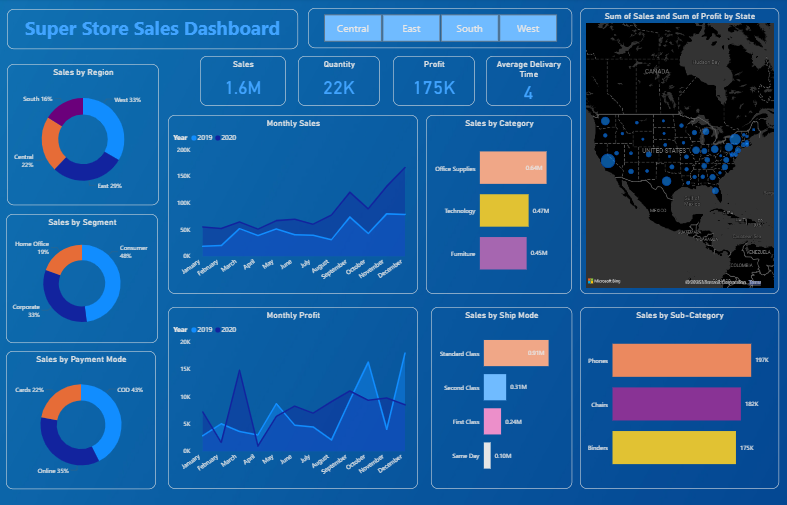

The dashboard page shown, as its layout file describes it:
{"tool":"powerbi","page":{"name":"Dashboard","canvas":[1550,1000],"ordinal":0},"visuals":[{"type":"clusteredBarChart","title":"Sales by Category","fields":{"Category":["SuperStore_Sales_Dataset.Category"],"Y":["Sum(SuperStore_Sales_Dataset.Sales)"]},"box":[840.6,230.3,287.4,352.4],"z":0},{"type":"clusteredBarChart","title":"Sales by Sub-Category","fields":{"Y":["Sum(SuperStore_Sales_Dataset.Sales)"],"Category":["SuperStore_Sales_Dataset.Sub-Category"]},"box":[1143.7,608.3,391.7,358.3],"z":1000},{"type":"clusteredBarChart","title":"Sales by Ship Mode","fields":{"Y":["Sum(SuperStore_Sales_Dataset.Sales)"],"Category":["SuperStore_Sales_Dataset.Ship Mode"]},"box":[850.4,608.3,277.6,358.3],"z":2000},{"type":"areaChart","title":"Monthly Sales","fields":{"Y":["Sum(SuperStore_Sales_Dataset.Sales)"],"Series":["SuperStore_Sales_Dataset.Order Date.Variation.Date Hierarchy.Year"],"Category":["SuperStore_Sales_Dataset.Order Date.Variation.Date Hierarchy.Month","SuperStore_Sales_Dataset.Order Date.Variation.Date Hierarchy.Day"]},"box":[332.7,230.3,492.1,352.4],"z":3000},{"type":"areaChart","title":"Monthly Profit","fields":{"Series":["SuperStore_Sales_Dataset.Order Date.Variation.Date Hierarchy.Year"],"Category":["SuperStore_Sales_Dataset.Order Date.Variation.Date Hierarchy.Month","SuperStore_Sales_Dataset.Order Date.Variation.Date Hierarchy.Day"],"Y":["Sum(SuperStore_Sales_Dataset.Profit)"]},"box":[332.7,608.3,492.1,358.3],"z":4000},{"type":"map","fields":{"Size":["Sum(SuperStore_Sales_Dataset.Sales)"],"Category":["SuperStore_Sales_Dataset.State"]},"box":[1143.7,19.7,391.7,563],"z":5000},{"type":"donutChart","title":"Sales by Segment","fields":{"Category":["SuperStore_Sales_Dataset.Segment"],"Y":["Sum(SuperStore_Sales_Dataset.Sales)"]},"box":[13.8,425.2,299.2,253.9],"z":6000},{"type":"donutChart","title":"Sales by Payment Mode","fields":{"Y":["Sum(SuperStore_Sales_Dataset.Sales)"],"Category":["SuperStore_Sales_Dataset.Payment Mode"]},"box":[13.8,694.9,295.3,271.7],"z":7000},{"type":"slicer","fields":{"Values":["SuperStore_Sales_Dataset.Region"]},"box":[608.3,19.7,519.7,78.7],"z":8000},{"type":"textbox","box":[15.7,21.7,572.8,78.7],"z":9000},{"type":"card","title":"Sales","fields":{"Values":["Sum(SuperStore_Sales_Dataset.Sales)"]},"box":[395.7,114.2,169.3,98.4],"z":10000},{"type":"card","title":"Quantity","fields":{"Values":["Sum(SuperStore_Sales_Dataset.Quantity)"]},"box":[588.6,114.2,161.4,98.4],"z":11000},{"type":"card","title":"Profit","fields":{"Values":["Sum(SuperStore_Sales_Dataset.Profit)"]},"box":[775.6,114.2,161.4,98.4],"z":12000},{"type":"card","title":"Average Delivary Time","fields":{"Values":["Avg(SuperStore_Sales_Dataset.AvgDelivaryTime)"]},"box":[958.7,114.2,167.3,98.4],"z":13000},{"type":"donutChart","title":"Sales by Region","fields":{"Y":["Sum(SuperStore_Sales_Dataset.Sales)"],"Category":["SuperStore_Sales_Dataset.Region"]},"box":[15.7,129.9,299.2,277.6],"z":14000}]}

Visuals, with their boxes in screenshot pixels (x1, y1, x2, y2), scaled from the page's 1550x1000 canvas onto the 787x505 screenshot:
"Sales by Category" clusteredBarChart: l=427, t=116, r=573, b=294
"Sales by Sub-Category" clusteredBarChart: l=581, t=307, r=780, b=488
"Sales by Ship Mode" clusteredBarChart: l=432, t=307, r=573, b=488
"Monthly Sales" areaChart: l=169, t=116, r=419, b=294
"Monthly Profit" areaChart: l=169, t=307, r=419, b=488
map - Sum(SuperStore_Sales_Dataset.Sales) x SuperStore_Sales_Dataset.State: l=581, t=10, r=780, b=294
"Sales by Segment" donutChart: l=7, t=215, r=159, b=343
"Sales by Payment Mode" donutChart: l=7, t=351, r=157, b=488
slicer - SuperStore_Sales_Dataset.Region: l=309, t=10, r=573, b=50
textbox: l=8, t=11, r=299, b=51
"Sales" card: l=201, t=58, r=287, b=107
"Quantity" card: l=299, t=58, r=381, b=107
"Profit" card: l=394, t=58, r=476, b=107
"Average Delivary Time" card: l=487, t=58, r=572, b=107
"Sales by Region" donutChart: l=8, t=66, r=160, b=206
